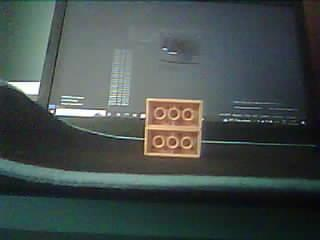lego: (144, 98, 204, 158)
